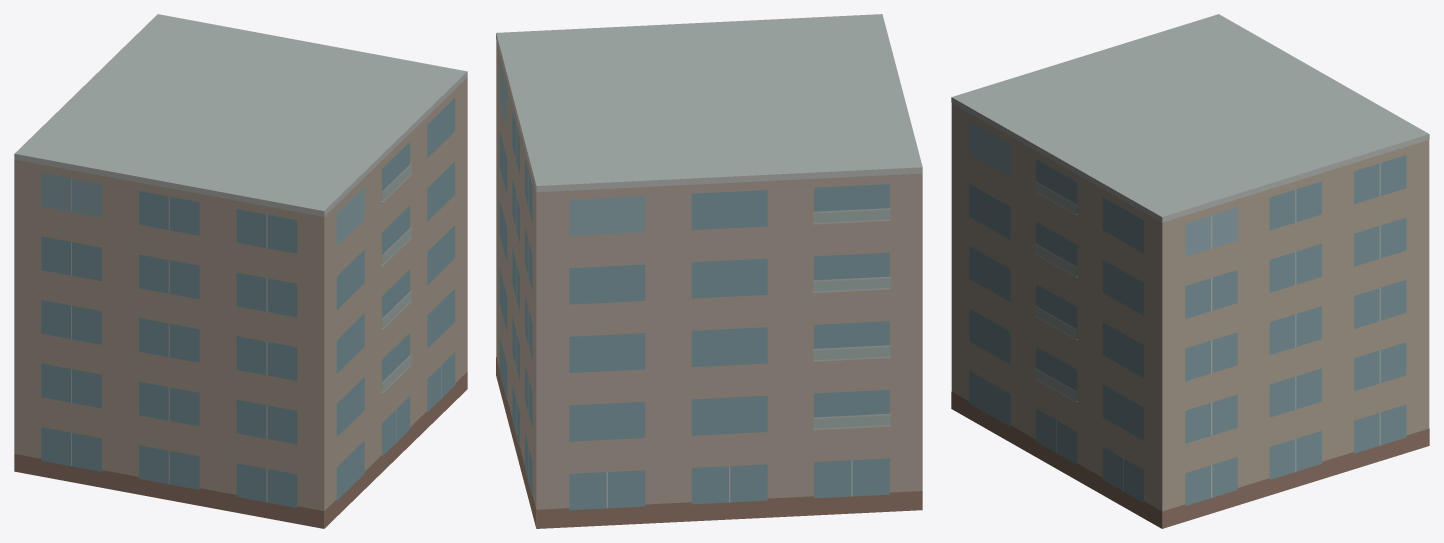
The model's file is survey-upis-32720526.glb.
3 renders of one model, left to right at view 1: azimuth 30°, elevation 25°; view 2: azimuth 150°, elevation 25°; view 3: azimuth 270°, elevation 25°, orthographic. The views are drawn at different scales.
Parts seen in each view (by area): view 1: survey-upis-32720526.tmp; view 2: survey-upis-32720526.tmp; view 3: survey-upis-32720526.tmp.
Part boxes in pixels (bbox=[...]): survey-upis-32720526.tmp: bbox=[14, 14, 467, 528]; survey-upis-32720526.tmp: bbox=[496, 14, 922, 528]; survey-upis-32720526.tmp: bbox=[951, 14, 1429, 528].
Bounding box in the file's own units: 18.87 × 13.5 × 18.77.
